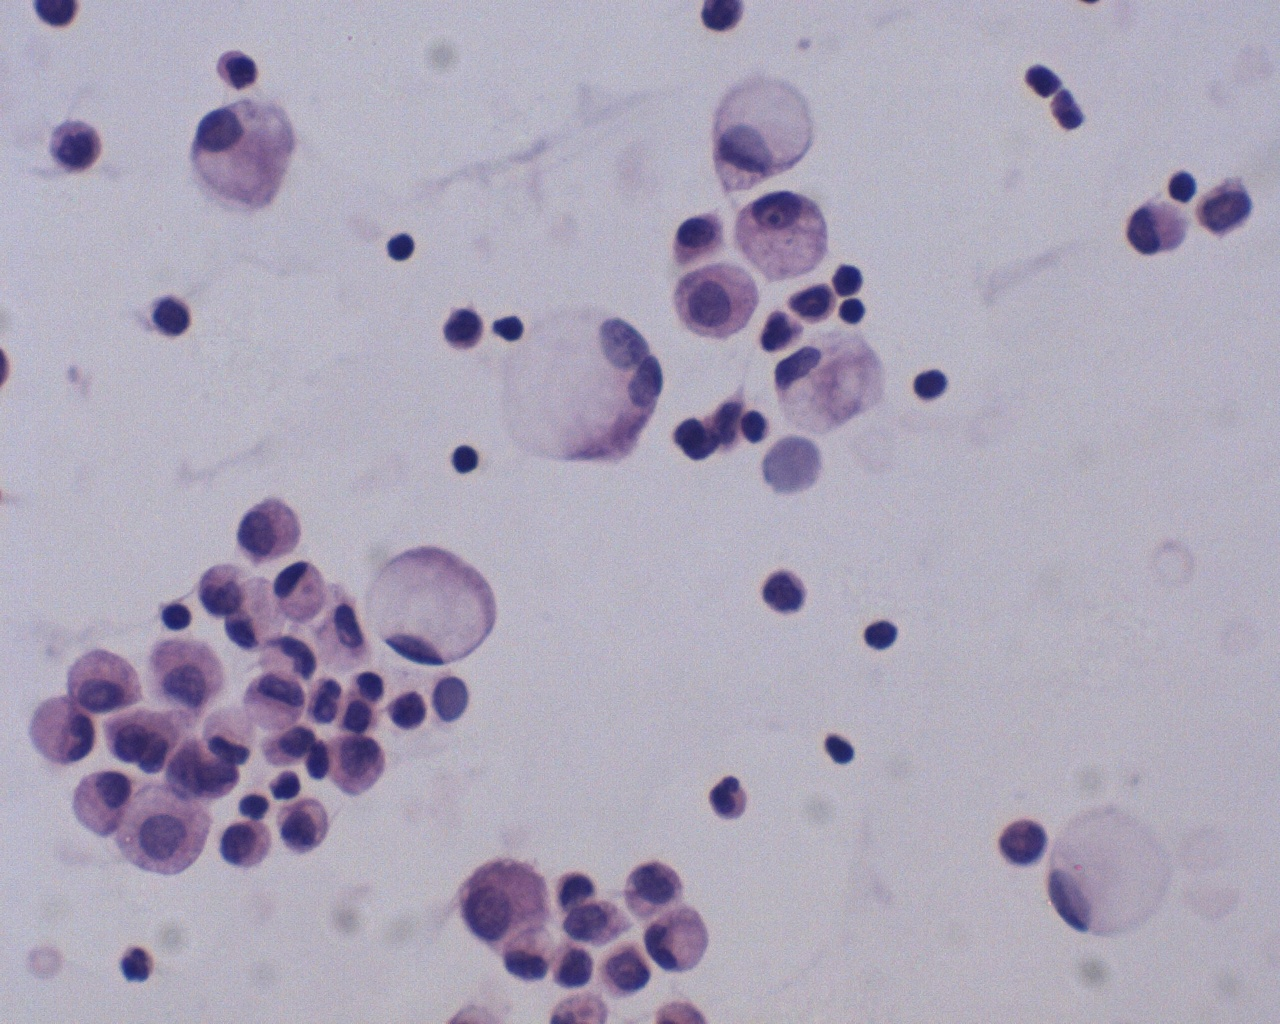ab: (1194, 171, 1260, 243)
histo: (501, 307, 664, 472), (1041, 798, 1180, 942), (363, 544, 512, 669), (182, 95, 315, 222), (774, 329, 890, 439), (732, 188, 834, 283), (639, 906, 719, 980)
lymph: (855, 615, 906, 661), (904, 363, 954, 406), (1164, 163, 1201, 210), (381, 229, 424, 267), (834, 293, 871, 329), (450, 443, 484, 481)
meso: (117, 783, 217, 884), (460, 858, 557, 951), (671, 261, 762, 343), (227, 489, 320, 566), (64, 641, 148, 717)
neutro: (706, 768, 759, 833)
